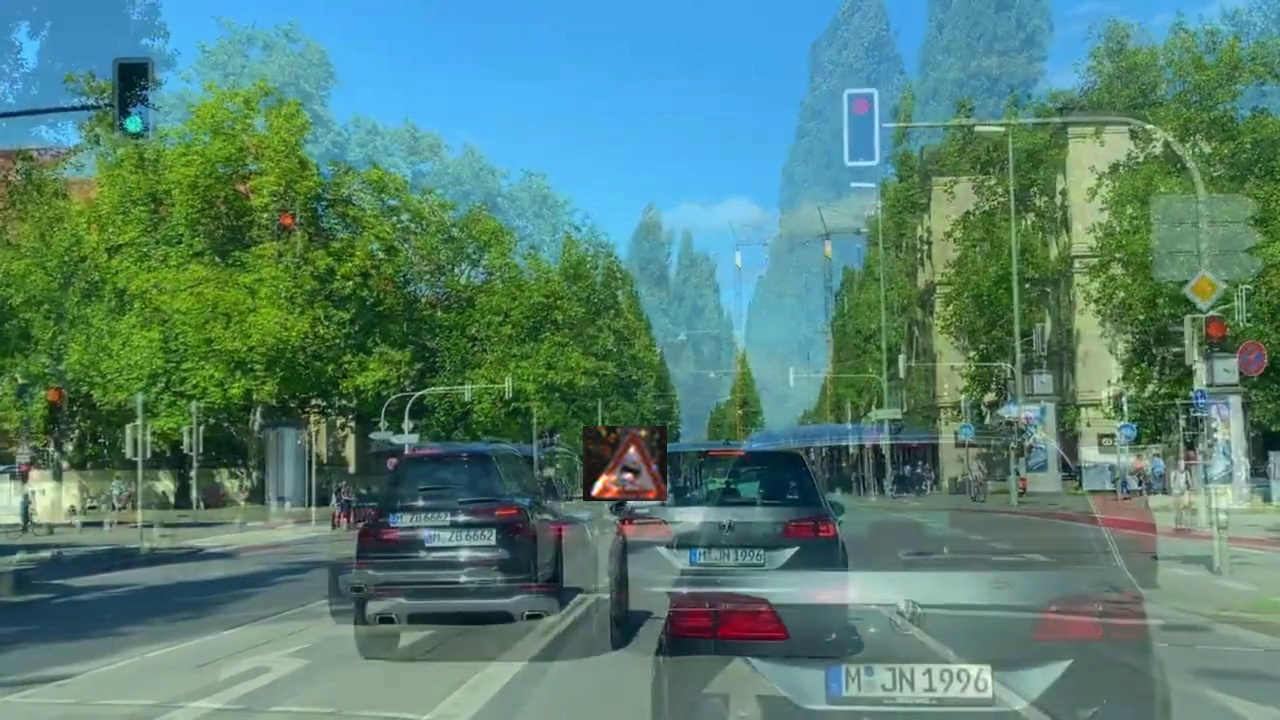Slippery: (583, 426, 667, 501)
